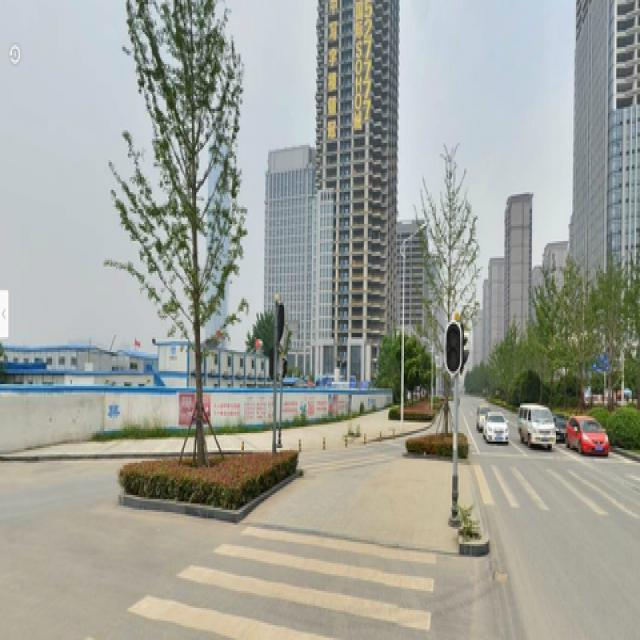gink: (127, 4, 252, 450)
